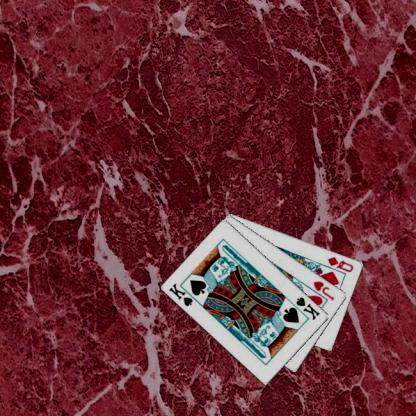JH: (311, 278, 336, 301)
KS: (166, 280, 200, 308), (293, 294, 321, 321)
QD: (325, 254, 355, 274)
